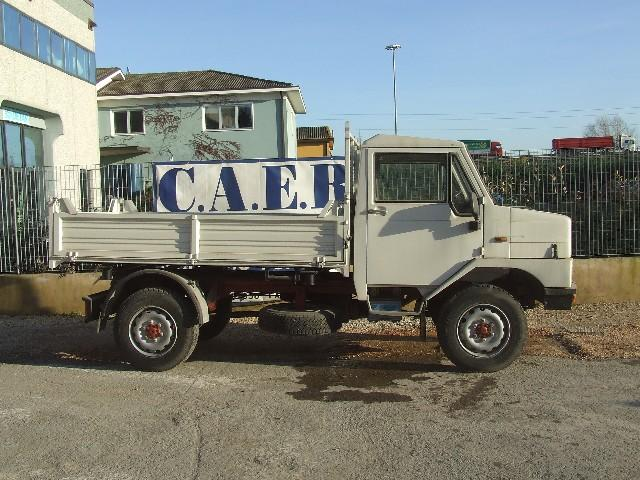truck: (48, 120, 578, 373)
